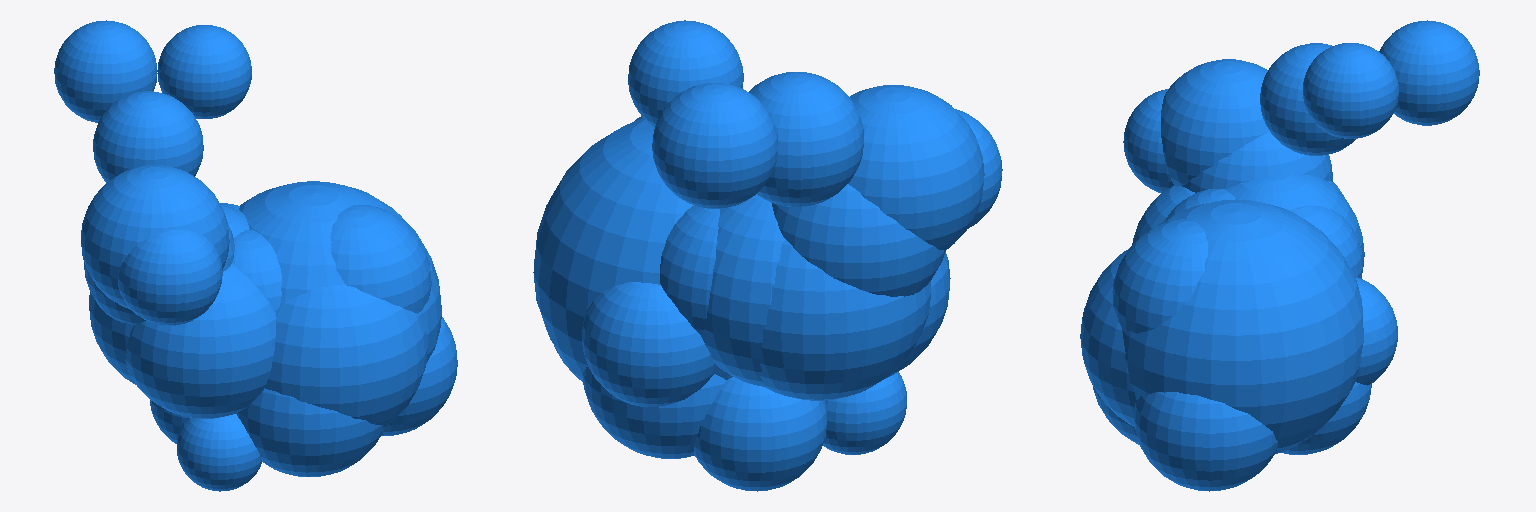
URDF robot description (bunny):
<?xml version="1.0"?>
<robot name="bunny">
  <!-- morphit:centroid 0.041098 -0.008122 0.090932 -->
  <material name="default_color">
    <color rgba="0.200000 0.600000 1.000000 1.000000"/>
  </material>
  <link name="base">
    <inertial>
      <mass value="0.001000"/>
      <inertia ixx="0.000010" ixy="0.0" ixz="0.0" iyy="0.000010" iyz="0.0" izz="0.000010"/>
    </inertial>
  </link>
  <link name="sphere_0">
    <visual>
      <origin xyz="0 0 0" rpy="0 0 0"/>
      <geometry><sphere radius="0.027893"/></geometry>
      <material name="default_color"/>
    </visual>
    <collision>
      <origin xyz="0 0 0" rpy="0 0 0"/>
      <geometry><sphere radius="0.027893"/></geometry>
    </collision>
    <inertial>
      <mass value="0.017507"/>
      <inertia ixx="0.000005" ixy="0.0" ixz="0.0" iyy="0.000005" iyz="0.0" izz="0.000005"/>
    </inertial>
  </link>
  <joint name="sphere_0_fixed" type="fixed">
    <parent link="base"/>
    <child link="sphere_0"/>
    <origin xyz="-0.031310 0.029067 0.073135" rpy="0 0 0"/>
  </joint>
  <link name="sphere_1">
    <visual>
      <origin xyz="0 0 0" rpy="0 0 0"/>
      <geometry><sphere radius="0.064490"/></geometry>
      <material name="default_color"/>
    </visual>
    <collision>
      <origin xyz="0 0 0" rpy="0 0 0"/>
      <geometry><sphere radius="0.064490"/></geometry>
    </collision>
    <inertial>
      <mass value="0.216386"/>
      <inertia ixx="0.000360" ixy="0.0" ixz="0.0" iyy="0.000360" iyz="0.0" izz="0.000360"/>
    </inertial>
  </link>
  <joint name="sphere_1_fixed" type="fixed">
    <parent link="base"/>
    <child link="sphere_1"/>
    <origin xyz="0.041860 -0.010488 -0.018190" rpy="0 0 0"/>
  </joint>
  <link name="sphere_2">
    <visual>
      <origin xyz="0 0 0" rpy="0 0 0"/>
      <geometry><sphere radius="0.037458"/></geometry>
      <material name="default_color"/>
    </visual>
    <collision>
      <origin xyz="0 0 0" rpy="0 0 0"/>
      <geometry><sphere radius="0.037458"/></geometry>
    </collision>
    <inertial>
      <mass value="0.042402"/>
      <inertia ixx="0.000024" ixy="0.0" ixz="0.0" iyy="0.000024" iyz="0.0" izz="0.000024"/>
    </inertial>
  </link>
  <joint name="sphere_2_fixed" type="fixed">
    <parent link="base"/>
    <child link="sphere_2"/>
    <origin xyz="-0.052289 -0.014140 0.044050" rpy="0 0 0"/>
  </joint>
  <link name="sphere_3">
    <visual>
      <origin xyz="0 0 0" rpy="0 0 0"/>
      <geometry><sphere radius="0.029211"/></geometry>
      <material name="default_color"/>
    </visual>
    <collision>
      <origin xyz="0 0 0" rpy="0 0 0"/>
      <geometry><sphere radius="0.029211"/></geometry>
    </collision>
    <inertial>
      <mass value="0.020108"/>
      <inertia ixx="0.000007" ixy="0.0" ixz="0.0" iyy="0.000007" iyz="0.0" izz="0.000007"/>
    </inertial>
  </link>
  <joint name="sphere_3_fixed" type="fixed">
    <parent link="base"/>
    <child link="sphere_3"/>
    <origin xyz="-0.004689 0.015918 -0.065502" rpy="0 0 0"/>
  </joint>
  <link name="sphere_4">
    <visual>
      <origin xyz="0 0 0" rpy="0 0 0"/>
      <geometry><sphere radius="0.026800"/></geometry>
      <material name="default_color"/>
    </visual>
    <collision>
      <origin xyz="0 0 0" rpy="0 0 0"/>
      <geometry><sphere radius="0.026800"/></geometry>
    </collision>
    <inertial>
      <mass value="0.015529"/>
      <inertia ixx="0.000004" ixy="0.0" ixz="0.0" iyy="0.000004" iyz="0.0" izz="0.000004"/>
    </inertial>
  </link>
  <joint name="sphere_4_fixed" type="fixed">
    <parent link="base"/>
    <child link="sphere_4"/>
    <origin xyz="-0.058542 -0.039279 0.037354" rpy="0 0 0"/>
  </joint>
  <link name="sphere_5">
    <visual>
      <origin xyz="0 0 0" rpy="0 0 0"/>
      <geometry><sphere radius="0.022293"/></geometry>
      <material name="default_color"/>
    </visual>
    <collision>
      <origin xyz="0 0 0" rpy="0 0 0"/>
      <geometry><sphere radius="0.022293"/></geometry>
    </collision>
    <inertial>
      <mass value="0.008938"/>
      <inertia ixx="0.000002" ixy="0.0" ixz="0.0" iyy="0.000002" iyz="0.0" izz="0.000002"/>
    </inertial>
  </link>
  <joint name="sphere_5_fixed" type="fixed">
    <parent link="base"/>
    <child link="sphere_5"/>
    <origin xyz="-0.023694 -0.030541 -0.070996" rpy="0 0 0"/>
  </joint>
  <link name="sphere_6">
    <visual>
      <origin xyz="0 0 0" rpy="0 0 0"/>
      <geometry><sphere radius="0.041401"/></geometry>
      <material name="default_color"/>
    </visual>
    <collision>
      <origin xyz="0 0 0" rpy="0 0 0"/>
      <geometry><sphere radius="0.041401"/></geometry>
    </collision>
    <inertial>
      <mass value="0.057250"/>
      <inertia ixx="0.000039" ixy="0.0" ixz="0.0" iyy="0.000039" iyz="0.0" izz="0.000039"/>
    </inertial>
  </link>
  <joint name="sphere_6_fixed" type="fixed">
    <parent link="base"/>
    <child link="sphere_6"/>
    <origin xyz="0.021897 -0.040896 -0.048597" rpy="0 0 0"/>
  </joint>
  <link name="sphere_7">
    <visual>
      <origin xyz="0 0 0" rpy="0 0 0"/>
      <geometry><sphere radius="0.037407"/></geometry>
      <material name="default_color"/>
    </visual>
    <collision>
      <origin xyz="0 0 0" rpy="0 0 0"/>
      <geometry><sphere radius="0.037407"/></geometry>
    </collision>
    <inertial>
      <mass value="0.042230"/>
      <inertia ixx="0.000024" ixy="0.0" ixz="0.0" iyy="0.000024" iyz="0.0" izz="0.000024"/>
    </inertial>
  </link>
  <joint name="sphere_7_fixed" type="fixed">
    <parent link="base"/>
    <child link="sphere_7"/>
    <origin xyz="0.074592 -0.023547 -0.049524" rpy="0 0 0"/>
  </joint>
  <link name="sphere_8">
    <visual>
      <origin xyz="0 0 0" rpy="0 0 0"/>
      <geometry><sphere radius="0.036527"/></geometry>
      <material name="default_color"/>
    </visual>
    <collision>
      <origin xyz="0 0 0" rpy="0 0 0"/>
      <geometry><sphere radius="0.036527"/></geometry>
    </collision>
    <inertial>
      <mass value="0.039319"/>
      <inertia ixx="0.000021" ixy="0.0" ixz="0.0" iyy="0.000021" iyz="0.0" izz="0.000021"/>
    </inertial>
  </link>
  <joint name="sphere_8_fixed" type="fixed">
    <parent link="base"/>
    <child link="sphere_8"/>
    <origin xyz="0.033329 0.020076 -0.049995" rpy="0 0 0"/>
  </joint>
  <link name="sphere_9">
    <visual>
      <origin xyz="0 0 0" rpy="0 0 0"/>
      <geometry><sphere radius="0.051281"/></geometry>
      <material name="default_color"/>
    </visual>
    <collision>
      <origin xyz="0 0 0" rpy="0 0 0"/>
      <geometry><sphere radius="0.051281"/></geometry>
    </collision>
    <inertial>
      <mass value="0.108800"/>
      <inertia ixx="0.000114" ixy="0.0" ixz="0.0" iyy="0.000114" iyz="0.0" izz="0.000114"/>
    </inertial>
  </link>
  <joint name="sphere_9_fixed" type="fixed">
    <parent link="base"/>
    <child link="sphere_9"/>
    <origin xyz="0.034336 -0.036099 -0.025060" rpy="0 0 0"/>
  </joint>
  <link name="sphere_10">
    <visual>
      <origin xyz="0 0 0" rpy="0 0 0"/>
      <geometry><sphere radius="0.043156"/></geometry>
      <material name="default_color"/>
    </visual>
    <collision>
      <origin xyz="0 0 0" rpy="0 0 0"/>
      <geometry><sphere radius="0.043156"/></geometry>
    </collision>
    <inertial>
      <mass value="0.064847"/>
      <inertia ixx="0.000048" ixy="0.0" ixz="0.0" iyy="0.000048" iyz="0.0" izz="0.000048"/>
    </inertial>
  </link>
  <joint name="sphere_10_fixed" type="fixed">
    <parent link="base"/>
    <child link="sphere_10"/>
    <origin xyz="-0.026485 -0.019465 -0.011796" rpy="0 0 0"/>
  </joint>
  <link name="sphere_11">
    <visual>
      <origin xyz="0 0 0" rpy="0 0 0"/>
      <geometry><sphere radius="0.029642"/></geometry>
      <material name="default_color"/>
    </visual>
    <collision>
      <origin xyz="0 0 0" rpy="0 0 0"/>
      <geometry><sphere radius="0.029642"/></geometry>
    </collision>
    <inertial>
      <mass value="0.021012"/>
      <inertia ixx="0.000007" ixy="0.0" ixz="0.0" iyy="0.000007" iyz="0.0" izz="0.000007"/>
    </inertial>
  </link>
  <joint name="sphere_11_fixed" type="fixed">
    <parent link="base"/>
    <child link="sphere_11"/>
    <origin xyz="0.030058 0.039846 -0.025802" rpy="0 0 0"/>
  </joint>
  <link name="sphere_12">
    <visual>
      <origin xyz="0 0 0" rpy="0 0 0"/>
      <geometry><sphere radius="0.046875"/></geometry>
      <material name="default_color"/>
    </visual>
    <collision>
      <origin xyz="0 0 0" rpy="0 0 0"/>
      <geometry><sphere radius="0.046875"/></geometry>
    </collision>
    <inertial>
      <mass value="0.083095"/>
      <inertia ixx="0.000073" ixy="0.0" ixz="0.0" iyy="0.000073" iyz="0.0" izz="0.000073"/>
    </inertial>
  </link>
  <joint name="sphere_12_fixed" type="fixed">
    <parent link="base"/>
    <child link="sphere_12"/>
    <origin xyz="-0.026638 0.003438 -0.004925" rpy="0 0 0"/>
  </joint>
  <link name="sphere_13">
    <visual>
      <origin xyz="0 0 0" rpy="0 0 0"/>
      <geometry><sphere radius="0.025989"/></geometry>
      <material name="default_color"/>
    </visual>
    <collision>
      <origin xyz="0 0 0" rpy="0 0 0"/>
      <geometry><sphere radius="0.025989"/></geometry>
    </collision>
    <inertial>
      <mass value="0.014162"/>
      <inertia ixx="0.000004" ixy="0.0" ixz="0.0" iyy="0.000004" iyz="0.0" izz="0.000004"/>
    </inertial>
  </link>
  <joint name="sphere_13_fixed" type="fixed">
    <parent link="base"/>
    <child link="sphere_13"/>
    <origin xyz="-0.024383 0.083673 0.090729" rpy="0 0 0"/>
  </joint>
  <link name="sphere_14">
    <visual>
      <origin xyz="0 0 0" rpy="0 0 0"/>
      <geometry><sphere radius="0.039658"/></geometry>
      <material name="default_color"/>
    </visual>
    <collision>
      <origin xyz="0 0 0" rpy="0 0 0"/>
      <geometry><sphere radius="0.039658"/></geometry>
    </collision>
    <inertial>
      <mass value="0.050319"/>
      <inertia ixx="0.000032" ixy="0.0" ixz="0.0" iyy="0.000032" iyz="0.0" izz="0.000032"/>
    </inertial>
  </link>
  <joint name="sphere_14_fixed" type="fixed">
    <parent link="base"/>
    <child link="sphere_14"/>
    <origin xyz="0.051944 -0.032149 0.003606" rpy="0 0 0"/>
  </joint>
  <link name="sphere_15">
    <visual>
      <origin xyz="0 0 0" rpy="0 0 0"/>
      <geometry><sphere radius="0.023830"/></geometry>
      <material name="default_color"/>
    </visual>
    <collision>
      <origin xyz="0 0 0" rpy="0 0 0"/>
      <geometry><sphere radius="0.023830"/></geometry>
    </collision>
    <inertial>
      <mass value="0.010918"/>
      <inertia ixx="0.000002" ixy="0.0" ixz="0.0" iyy="0.000002" iyz="0.0" izz="0.000002"/>
    </inertial>
  </link>
  <joint name="sphere_15_fixed" type="fixed">
    <parent link="base"/>
    <child link="sphere_15"/>
    <origin xyz="0.011265 0.046095 0.097696" rpy="0 0 0"/>
  </joint>
  <link name="sphere_16">
    <visual>
      <origin xyz="0 0 0" rpy="0 0 0"/>
      <geometry><sphere radius="0.045324"/></geometry>
      <material name="default_color"/>
    </visual>
    <collision>
      <origin xyz="0 0 0" rpy="0 0 0"/>
      <geometry><sphere radius="0.045324"/></geometry>
    </collision>
    <inertial>
      <mass value="0.075115"/>
      <inertia ixx="0.000062" ixy="0.0" ixz="0.0" iyy="0.000062" iyz="0.0" izz="0.000062"/>
    </inertial>
  </link>
  <joint name="sphere_16_fixed" type="fixed">
    <parent link="base"/>
    <child link="sphere_16"/>
    <origin xyz="-0.013171 0.007625 -0.002900" rpy="0 0 0"/>
  </joint>
  <link name="sphere_17">
    <visual>
      <origin xyz="0 0 0" rpy="0 0 0"/>
      <geometry><sphere radius="0.038646"/></geometry>
      <material name="default_color"/>
    </visual>
    <collision>
      <origin xyz="0 0 0" rpy="0 0 0"/>
      <geometry><sphere radius="0.038646"/></geometry>
    </collision>
    <inertial>
      <mass value="0.046565"/>
      <inertia ixx="0.000028" ixy="0.0" ixz="0.0" iyy="0.000028" iyz="0.0" izz="0.000028"/>
    </inertial>
  </link>
  <joint name="sphere_17_fixed" type="fixed">
    <parent link="base"/>
    <child link="sphere_17"/>
    <origin xyz="-0.041981 -0.001307 0.025319" rpy="0 0 0"/>
  </joint>
  <link name="sphere_18">
    <visual>
      <origin xyz="0 0 0" rpy="0 0 0"/>
      <geometry><sphere radius="0.034825"/></geometry>
      <material name="default_color"/>
    </visual>
    <collision>
      <origin xyz="0 0 0" rpy="0 0 0"/>
      <geometry><sphere radius="0.034825"/></geometry>
    </collision>
    <inertial>
      <mass value="0.034076"/>
      <inertia ixx="0.000017" ixy="0.0" ixz="0.0" iyy="0.000017" iyz="0.0" izz="0.000017"/>
    </inertial>
  </link>
  <joint name="sphere_18_fixed" type="fixed">
    <parent link="base"/>
    <child link="sphere_18"/>
    <origin xyz="-0.001249 -0.016213 0.001102" rpy="0 0 0"/>
  </joint>
  <link name="sphere_19">
    <visual>
      <origin xyz="0 0 0" rpy="0 0 0"/>
      <geometry><sphere radius="0.033897"/></geometry>
      <material name="default_color"/>
    </visual>
    <collision>
      <origin xyz="0 0 0" rpy="0 0 0"/>
      <geometry><sphere radius="0.033897"/></geometry>
    </collision>
    <inertial>
      <mass value="0.031421"/>
      <inertia ixx="0.000014" ixy="0.0" ixz="0.0" iyy="0.000014" iyz="0.0" izz="0.000014"/>
    </inertial>
  </link>
  <joint name="sphere_19_fixed" type="fixed">
    <parent link="base"/>
    <child link="sphere_19"/>
    <origin xyz="0.005152 0.018387 0.000295" rpy="0 0 0"/>
  </joint>
</robot>

--- What the picture shows (computed from the rendered views, not written in the file) ---
Views: 3 orthographic renders of the robot side by side, from view 1: azimuth 30°, elevation 25°; view 2: azimuth 150°, elevation 25°; view 3: azimuth 270°, elevation 25°.
Model bunny with 21 links and 20 joints (20 fixed), rooted at base, posed all joints at 0.
Visible links, largest first — view 1: sphere_9, sphere_10, sphere_2, sphere_1, sphere_6, sphere_4, sphere_14, sphere_13, sphere_0, sphere_15, sphere_5, sphere_7 (+4 smaller); view 2: sphere_1, sphere_12, sphere_2, sphere_13, sphere_11, sphere_3, sphere_17, sphere_0, sphere_16, sphere_15, sphere_8, sphere_19 (+3 smaller); view 3: sphere_1, sphere_7, sphere_2, sphere_13, sphere_14, sphere_15, sphere_0, sphere_9, sphere_17, sphere_16, sphere_4, sphere_11 (+5 smaller).
Boxes of the visible links, <box> form: sphere_9: <box>265,284,427,426</box>; sphere_10: <box>125,264,276,418</box>; sphere_2: <box>81,165,229,309</box>; sphere_1: <box>239,181,441,361</box>; sphere_6: <box>236,388,384,476</box>; sphere_4: <box>118,230,222,325</box>; sphere_14: <box>330,205,431,313</box>; sphere_13: <box>54,20,157,122</box>; sphere_0: <box>93,91,203,182</box>; sphere_15: <box>157,25,251,118</box>; sphere_5: <box>177,414,261,491</box>; sphere_7: <box>381,317,457,435</box>; sphere_1: <box>533,119,732,381</box>; sphere_12: <box>760,239,930,400</box>; sphere_2: <box>848,85,984,250</box>; sphere_13: <box>652,83,778,208</box>; sphere_11: <box>582,282,716,406</box>; sphere_3: <box>693,377,826,491</box>; sphere_17: <box>772,184,945,296</box>; sphere_0: <box>749,72,863,206</box>; sphere_16: <box>702,194,784,386</box>; sphere_15: <box>628,20,743,126</box>; sphere_8: <box>582,367,725,458</box>; sphere_19: <box>660,205,719,336</box>; sphere_1: <box>1122,199,1363,454</box>; sphere_7: <box>1134,392,1277,491</box>; sphere_2: <box>1161,59,1269,185</box>; sphere_13: <box>1379,20,1479,125</box>; sphere_14: <box>1112,219,1207,333</box>; sphere_15: <box>1303,43,1398,138</box>; sphere_0: <box>1260,43,1355,155</box>; sphere_9: <box>1080,248,1136,426</box>; sphere_17: <box>1182,132,1332,192</box>; sphere_16: <box>1225,174,1364,266</box>; sphere_4: <box>1123,89,1173,192</box>; sphere_11: <box>1356,277,1397,385</box>.
Size in the robot's own frame: 0.2017 by 0.197 by 0.2162 metres.
Geometry: primitives only (box / cylinder / sphere), no mesh files.
